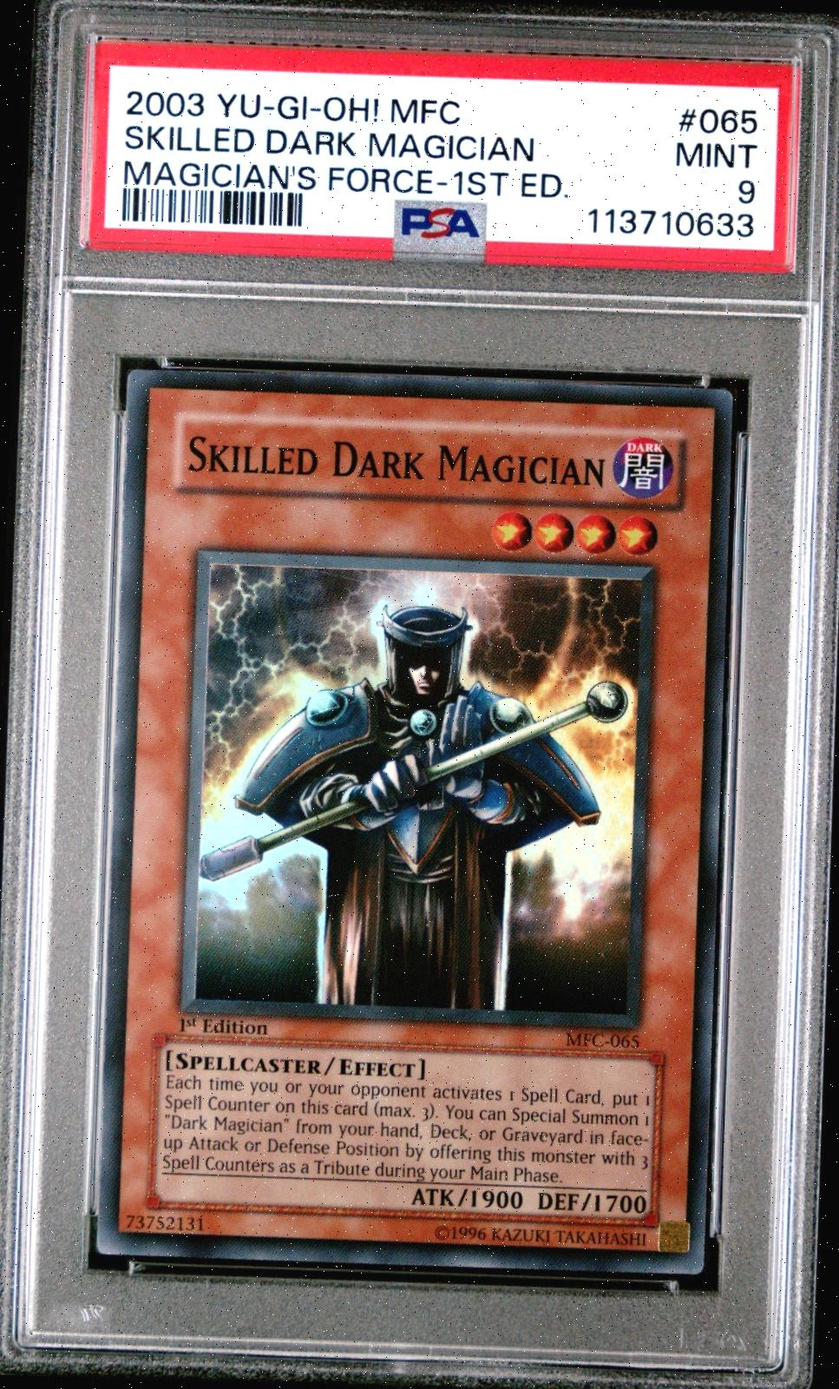card-2UtV: (95, 369, 733, 1275)
